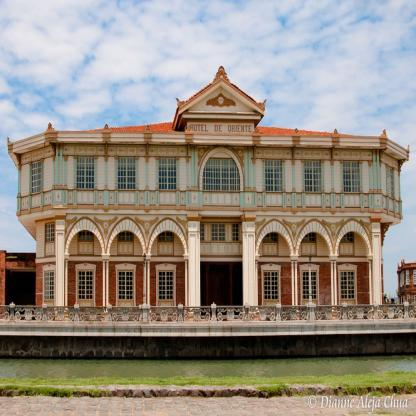Building Outline: (7, 66, 410, 321)
Deco: (206, 92, 237, 108)
Door: (208, 265, 230, 321)
Door Hole: (200, 261, 243, 321)
Facade: (37, 135, 380, 319)
Floor: (36, 214, 383, 254)
Floor Slab: (17, 209, 401, 224), (36, 251, 383, 259)
Ground Floor: (35, 256, 385, 321)
Pillar: (371, 222, 382, 320), (56, 219, 64, 322), (189, 219, 197, 322), (247, 219, 255, 322)
Roof: (86, 66, 356, 135)
Shop: (190, 124, 252, 134)
Top Floor: (17, 144, 401, 219)
Window: (203, 159, 241, 191), (304, 159, 322, 192), (118, 157, 136, 189), (265, 159, 282, 192), (343, 160, 360, 192), (77, 157, 94, 189), (159, 157, 176, 189), (264, 271, 278, 299), (159, 271, 173, 299), (119, 271, 133, 299), (79, 271, 92, 299), (341, 271, 354, 299), (303, 271, 316, 299), (31, 162, 42, 194), (119, 218, 133, 241), (159, 218, 173, 241), (79, 217, 93, 239), (45, 271, 54, 300), (212, 223, 226, 241), (264, 224, 278, 242), (302, 224, 316, 242), (339, 224, 353, 242), (387, 167, 394, 198), (46, 224, 54, 242), (198, 223, 205, 241), (232, 223, 239, 241)
